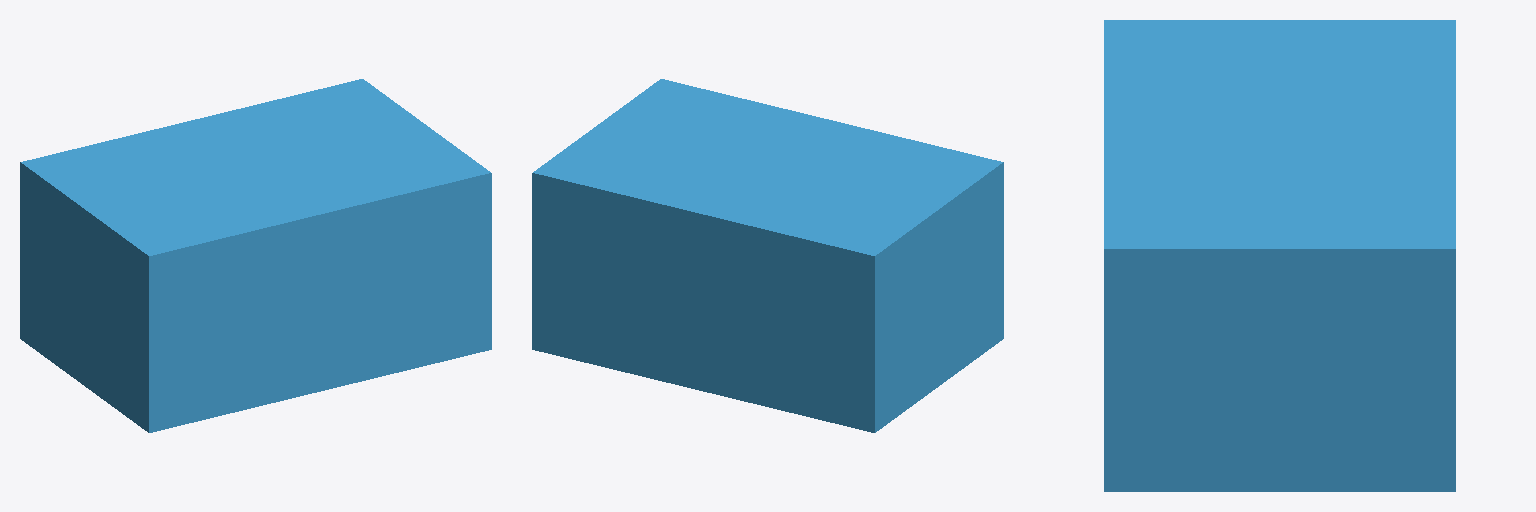
robot.urdf — umr_ur12e:
<?xml version="1.0"?>
<!--
  ENG-654 Project 1G : AgileX UMR (as a prismatic joint along world X) + UR12e
  Kinematic model only (simple primitives for the base; UR meshes can be added
  from ur_description for visualisation).

  Arm numbers: Universal_Robots_ROS2_Description, config/ur12e/default_kinematics.yaml
  Base:        AgileX UMR, 830 x 540 x 410 mm (arm mounted on top-plate centre).
  Joint limits: all six arm joints restricted to [-pi, pi] (TA instruction).
  Mount yaw = pi so that the UR controller "base" frame (= DH frame 0)
  is parallel to the world frame.
-->
<robot name="umr_ur12e">
  <link name="world"/>

  <!-- ===================== mobile base: prismatic joint 0 ===================== -->
  <link name="umr_base_link">
    <visual>
      <origin xyz="0 0 0.205" rpy="0 0 0"/>
      <geometry><box size="0.83 0.54 0.41"/></geometry>
    </visual>
  </link>
  <joint name="base_x_joint" type="prismatic">
    <parent link="world"/>
    <child link="umr_base_link"/>
    <origin xyz="0 0 0" rpy="0 0 0"/>
    <axis xyz="1 0 0"/>
    <limit lower="-1.5" upper="1.5" effort="1000" velocity="1.5"/>
  </joint>

  <!-- arm mounted at the centre of the 410 mm-high top plate -->
  <link name="base_link"/>
  <joint name="umr_to_ur_mount" type="fixed">
    <parent link="umr_base_link"/>
    <child link="base_link"/>
    <origin xyz="0 0 0.41" rpy="0 0 3.141592653589793"/>
  </joint>

  <!-- ================================ UR12e ================================= -->
  <link name="base_link_inertia"/>
  <joint name="base_link-base_link_inertia" type="fixed">
    <parent link="base_link"/>
    <child link="base_link_inertia"/>
    <origin xyz="0 0 0" rpy="0 0 3.141592653589793"/>
  </joint>

  <link name="shoulder_link"/>
  <joint name="shoulder_pan_joint" type="revolute">
    <parent link="base_link_inertia"/>
    <child link="shoulder_link"/>
    <origin xyz="0 0 0.1807" rpy="0 0 0"/>
    <axis xyz="0 0 1"/>
    <limit lower="-3.141592653589793" upper="3.141592653589793" effort="330" velocity="2.0944"/>
  </joint>

  <link name="upper_arm_link"/>
  <joint name="shoulder_lift_joint" type="revolute">
    <parent link="shoulder_link"/>
    <child link="upper_arm_link"/>
    <origin xyz="0 0 0" rpy="1.570796327 0 0"/>
    <axis xyz="0 0 1"/>
    <limit lower="-3.141592653589793" upper="3.141592653589793" effort="330" velocity="2.0944"/>
  </joint>

  <link name="forearm_link"/>
  <joint name="elbow_joint" type="revolute">
    <parent link="upper_arm_link"/>
    <child link="forearm_link"/>
    <origin xyz="-0.6127 0 0" rpy="0 0 0"/>
    <axis xyz="0 0 1"/>
    <limit lower="-3.141592653589793" upper="3.141592653589793" effort="150" velocity="3.1416"/>
  </joint>

  <link name="wrist_1_link"/>
  <joint name="wrist_1_joint" type="revolute">
    <parent link="forearm_link"/>
    <child link="wrist_1_link"/>
    <origin xyz="-0.57155 0 0.17415" rpy="0 0 0"/>
    <axis xyz="0 0 1"/>
    <limit lower="-3.141592653589793" upper="3.141592653589793" effort="54" velocity="3.1416"/>
  </joint>

  <link name="wrist_2_link"/>
  <joint name="wrist_2_joint" type="revolute">
    <parent link="wrist_1_link"/>
    <child link="wrist_2_link"/>
    <origin xyz="0 -0.11985 -2.458164590756244e-11" rpy="1.570796327 0 0"/>
    <axis xyz="0 0 1"/>
    <limit lower="-3.141592653589793" upper="3.141592653589793" effort="54" velocity="3.1416"/>
  </joint>

  <link name="wrist_3_link"/>
  <joint name="wrist_3_joint" type="revolute">
    <parent link="wrist_2_link"/>
    <child link="wrist_3_link"/>
    <origin xyz="0 0.11655 -2.390480459346185e-11" rpy="1.570796326589793 3.141592653589793 3.141592653589793"/>
    <axis xyz="0 0 1"/>
    <limit lower="-3.141592653589793" upper="3.141592653589793" effort="54" velocity="3.1416"/>
  </joint>

  <!-- ROS-Industrial frames -->
  <link name="flange"/>
  <joint name="wrist_3-flange" type="fixed">
    <parent link="wrist_3_link"/>
    <child link="flange"/>
    <origin xyz="0 0 0" rpy="0 -1.5707963267948966 -1.5707963267948966"/>
  </joint>
  <link name="tool0"/>
  <joint name="flange-tool0" type="fixed">
    <parent link="flange"/>
    <child link="tool0"/>
    <origin xyz="0 0 0" rpy="1.5707963267948966 0 1.5707963267948966"/>
  </joint>
  <link name="base"/>
  <joint name="base_link-base_fixed_joint" type="fixed">
    <parent link="base_link"/>
    <child link="base"/>
    <origin xyz="0 0 0" rpy="0 0 3.141592653589793"/>
  </joint>
</robot>

--- What the picture shows (computed from the rendered views, not written in the file) ---
3 views of the same robot in one strip: view 1: azimuth 30°, elevation 25°; view 2: azimuth 150°, elevation 25°; view 3: azimuth 270°, elevation 25° (orthographic).
Model umr_ur12e with 13 links and 12 joints (6 revolute, 1 prismatic, 5 fixed), rooted at world, posed every joint at zero.
Links seen in each view (by area): view 1: umr_base_link; view 2: umr_base_link; view 3: umr_base_link.
Link boxes in pixels (left/top/right/bottom): umr_base_link: left=20, top=79, right=491, bottom=432; umr_base_link: left=532, top=79, right=1003, bottom=432; umr_base_link: left=1104, top=20, right=1455, bottom=491.
Size in the robot's own frame: 0.83 by 0.54 by 0.41 metres.
Geometry: primitives only (box / cylinder / sphere), no mesh files.
